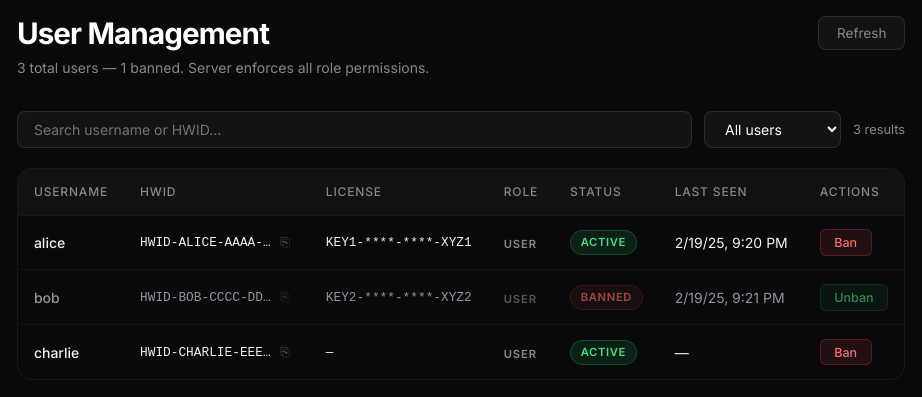
Test case: AdminUsers — search › shows empty state message when no results
The width and height of the screenshot is (922, 397).
Expected: the text "alice" is shown, top-left (18, 215), bottom-right (124, 270)
Type "nonexistent-xyz" into the field with placeholder "Search username or HWID…" at coordinates (354, 130), box top-left (17, 112), bottom-right (692, 148)
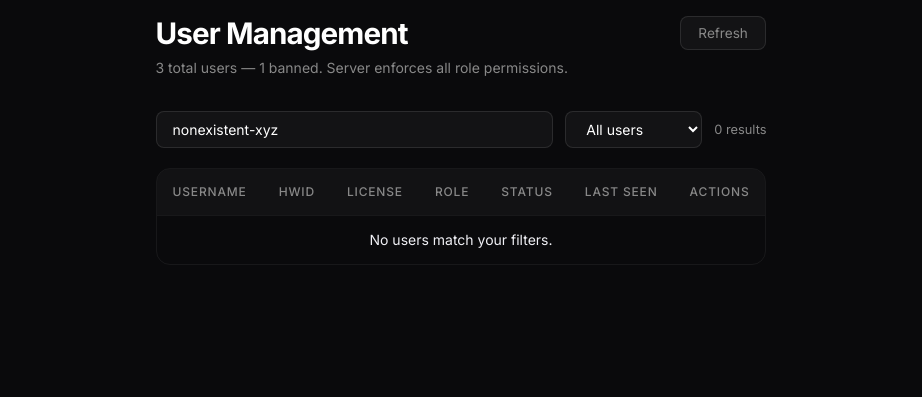
Expected: the text "No users match your filters." is shown, top-left (156, 215), bottom-right (766, 264)
